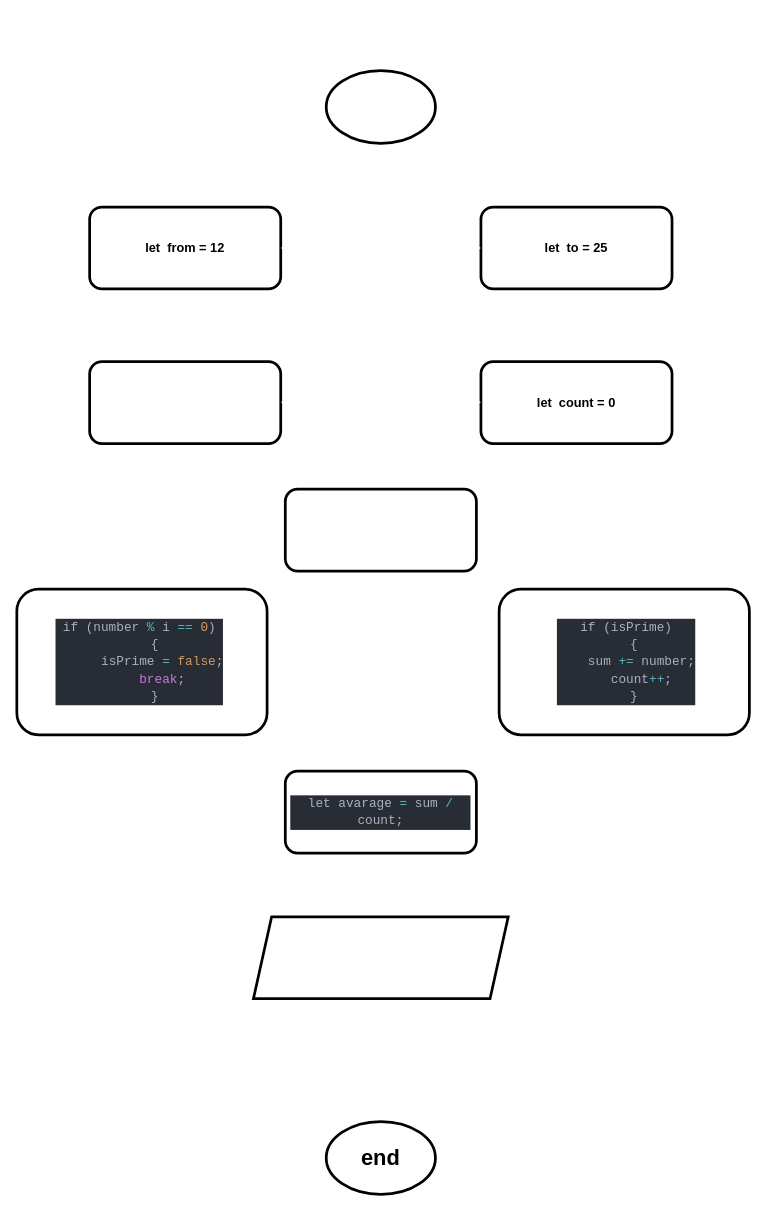
This 766x1211 diagram has some shape labels left out. The shapes that lost their labels are listed below. From the top down, each one's box as (x1, y1, x2, y2) in pixels, then its label:
(324, 69, 436, 144): start
(88, 360, 282, 445): let sum = 0
(283, 487, 477, 572): for ( let number = from; number < to; number ++ )
(252, 915, 509, 1000): console.log(avarage)
